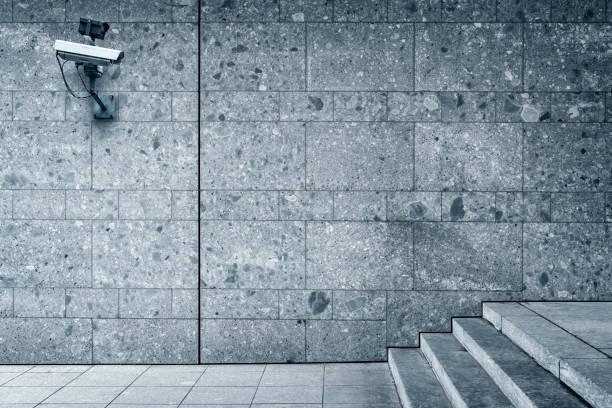camera: (47, 5, 136, 83)
